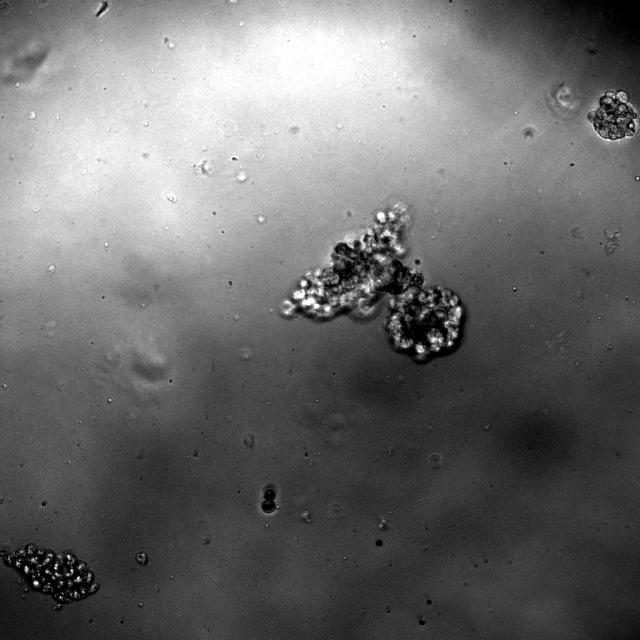organoid: (285, 203, 461, 356), (2, 543, 99, 603), (588, 91, 638, 140), (261, 486, 276, 514)
